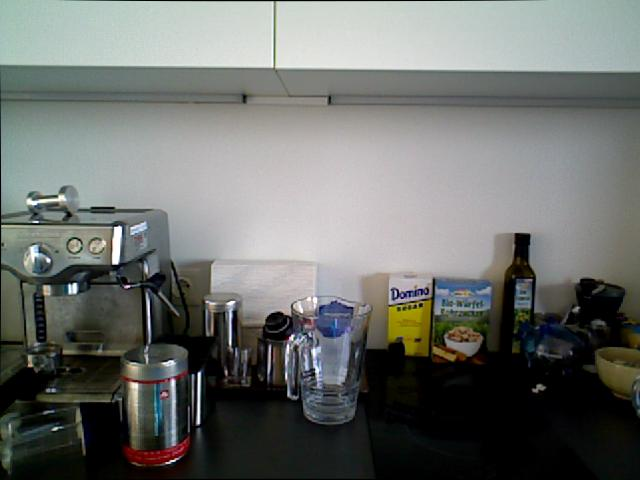bench: (499, 232, 536, 358)
bird: (594, 346, 639, 398), (443, 331, 483, 357)
handbag: (286, 293, 373, 425)
